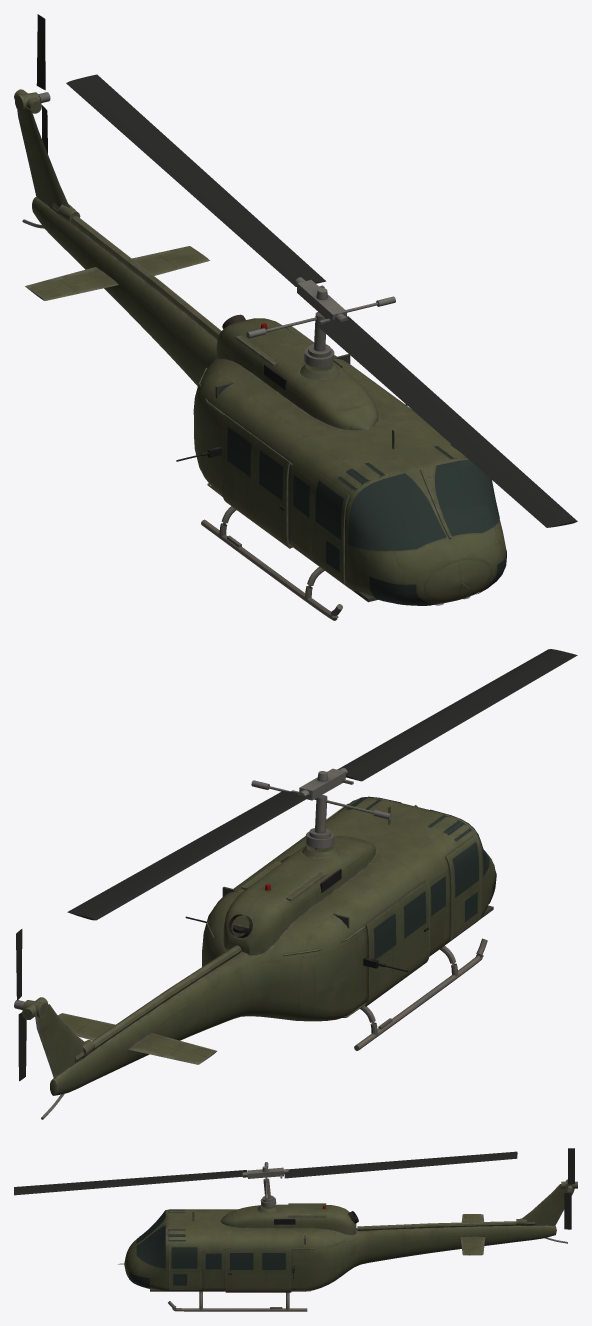
3 views of the same model, one above another, from view 1: azimuth 30°, elevation 25°; view 2: azimuth 150°, elevation 25°; view 3: azimuth 270°, elevation 25° (orthographic). The views are drawn at different scales.
Visible parts, largest first — view 1: than, canh_quat, cua_hang_phai, cua_lai_phai, canh_quat_duoi; view 2: than, canh_quat, cua_hang_phai, cua_lai_phai, canh_quat_duoi; view 3: than, canh_quat, cua_hang_trai, cua_lai_trai, canh_quat_duoi.
Boxes of the visible parts, x1,y1,x2,y2 form: than: (14,89,506,620); canh_quat: (66,74,577,527); cua_hang_phai: (222,414,290,548); cua_lai_phai: (311,471,349,583); canh_quat_duoi: (36,14,50,153); than: (22,795,496,1119); canh_quat: (67,649,577,920); cua_hang_phai: (365,880,429,1006); cua_lai_phai: (445,835,481,940); canh_quat_duoi: (14,929,26,1081); than: (118,1178,577,1311); canh_quat: (14,1151,517,1200); cua_hang_trai: (225,1248,291,1292); cua_lai_trai: (169,1244,201,1289); canh_quat_duoi: (564,1148,574,1229).
Bounding box in the file's own units: 4 × 4.77 × 16.33.
Materials: 1 (1 with a texture image).
